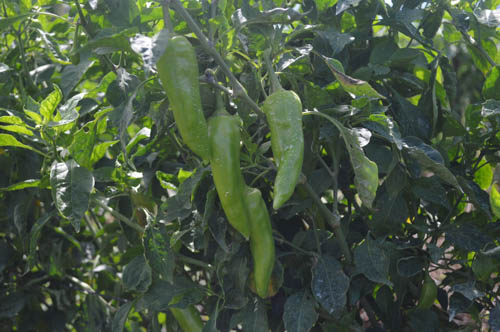ChiliPepper: (160, 39, 210, 159), (206, 114, 249, 239), (263, 92, 304, 214), (243, 188, 275, 297)
